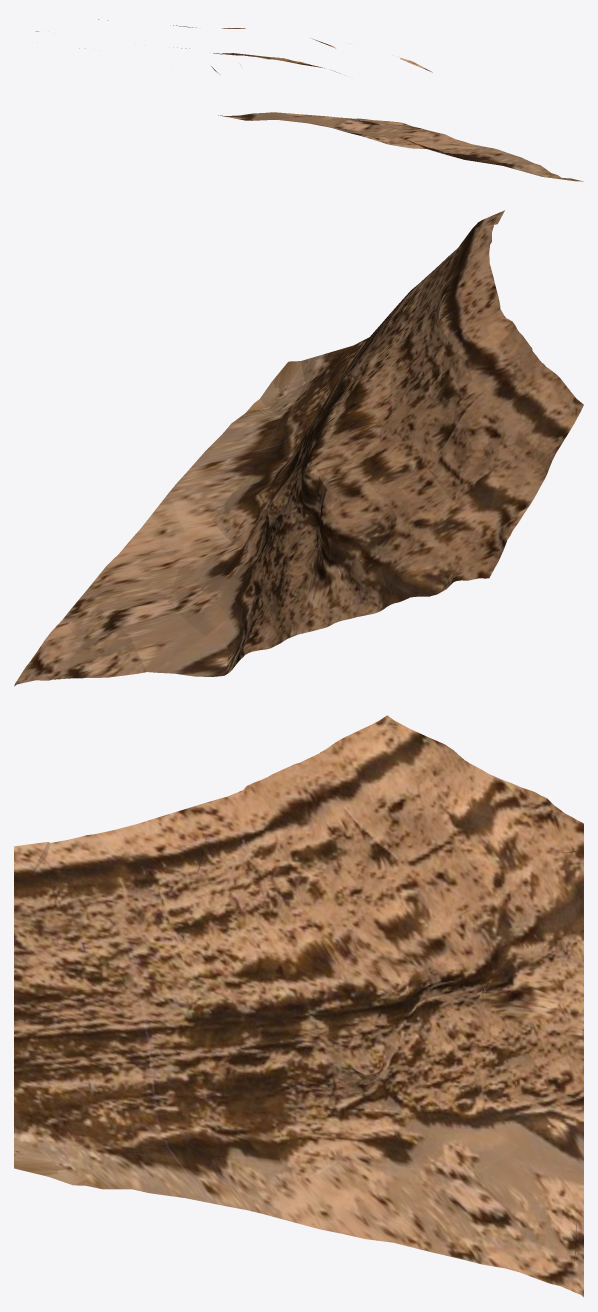
3 views of the same model, one above another, from view 1: azimuth 30°, elevation 25°; view 2: azimuth 150°, elevation 25°; view 3: azimuth 270°, elevation 25° (orthographic). The views are drawn at different scales.
Size of the model in its own units: 1.04 by 0.6904 by 1.04.
2 materials, 2 textured.
